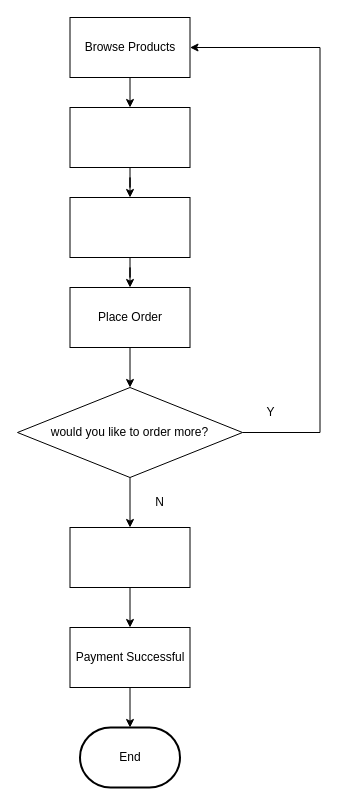
Some shapes in this 346 by 806 pixel diagram are drawn without their labels. The shapes that lost their labels are listed below. From the top down, each one's centre as x and y in pixels, then its label:
At (129,137): "Select Product to Order".
At (129,227): "Enter Order Details".
At (129,557): "Generate Billing for order".
